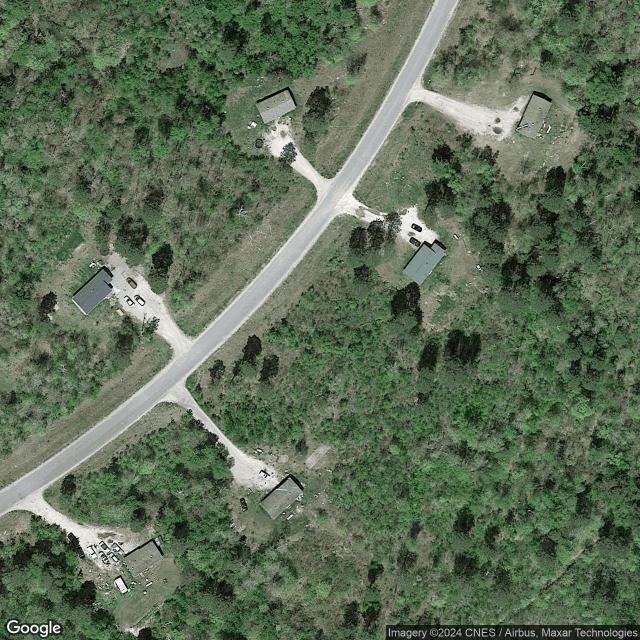Propane: (544, 124, 553, 136), (286, 512, 296, 521), (144, 580, 155, 588), (451, 232, 460, 241), (87, 260, 96, 269)
